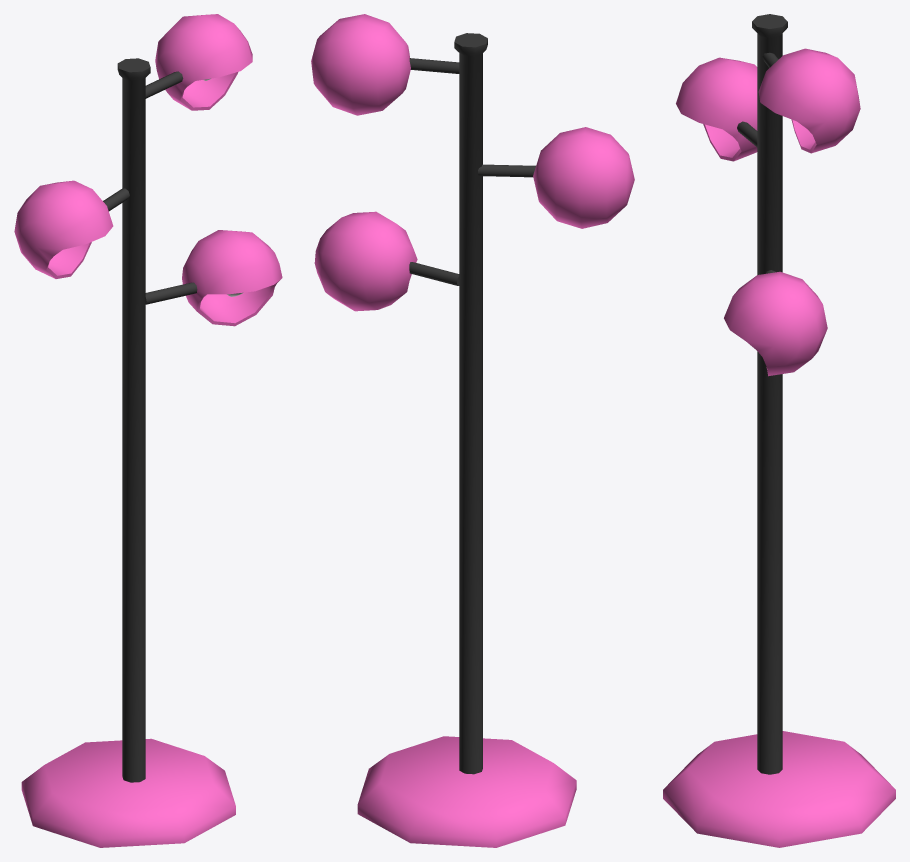
File: Floor_Lamp_06.FBX
3 views of the same model, side by side, from view 1: azimuth 30°, elevation 25°; view 2: azimuth 150°, elevation 25°; view 3: azimuth 270°, elevation 25° (orthographic). The views are drawn at different scales.
Visible parts, largest first — view 1: Floor_Lamp; view 2: Floor_Lamp; view 3: Floor_Lamp.
Part boxes in pixels (x1=…): Floor_Lamp: x1=14, y1=14, x2=282, y2=847; Floor_Lamp: x1=311, y1=14, x2=634, y2=847; Floor_Lamp: x1=663, y1=14, x2=895, y2=847.
Size of the model in its own units: 106 by 275 by 73.35.
